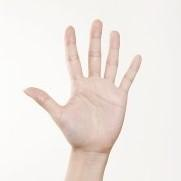pa-: (23, 18, 143, 141)
